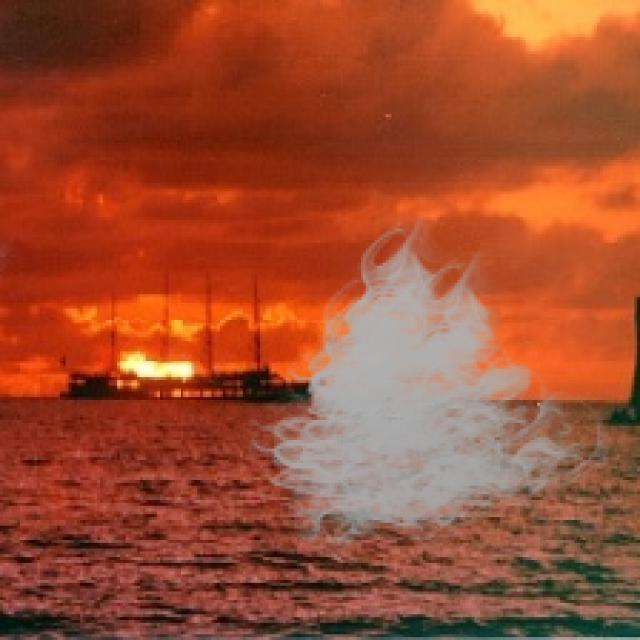Smoke: (237, 217, 617, 566)
